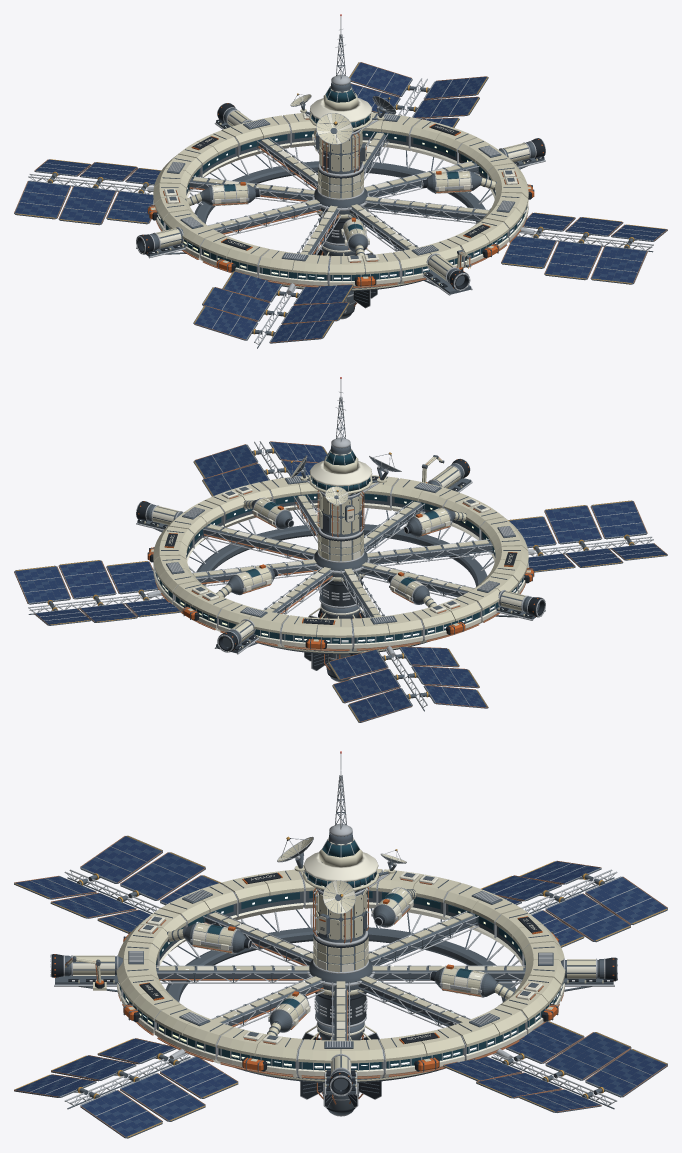
The model's file is odyssey-station.glb.
3 renders of one model, top to bottom at view 1: azimuth 30°, elevation 25°; view 2: azimuth 150°, elevation 25°; view 3: azimuth 270°, elevation 25°, orthographic. The views are drawn at different scales.
Parts seen in each view (by area): view 1: solar geometry, habitat geometry, spokes geometry, core geometry, dock geometry, labs geometry, comms geometry, reactor geometry; view 2: habitat geometry, solar geometry, spokes geometry, core geometry, labs geometry, dock geometry, reactor geometry, comms geometry; view 3: solar geometry, habitat geometry, spokes geometry, core geometry, labs geometry, dock geometry, reactor geometry, comms geometry.
Part boxes in pixels (x1,y1,x2,y2): solar geometry: (14,62,667,348); habitat geometry: (147,112,534,291); spokes geometry: (188,132,489,254); core geometry: (309,14,372,245); dock geometry: (136,103,545,295); labs geometry: (185,128,496,255); comms geometry: (290,93,396,144); reactor geometry: (314,242,377,319); habitat geometry: (147,475,534,654); solar geometry: (14,441,667,722); spokes geometry: (192,494,493,617); core geometry: (309,377,372,608); labs geometry: (216,497,466,607); dock geometry: (136,455,545,654); reactor geometry: (304,603,367,681); comms geometry: (290,452,401,506); solar geometry: (14,835,667,1138); habitat geometry: (116,868,565,1082); spokes geometry: (156,911,525,1040); core geometry: (303,751,378,1027); labs geometry: (167,887,514,1035); dock geometry: (50,954,617,1096); reactor geometry: (300,1022,381,1116); comms geometry: (277,836,406,913).
Size of the model in its own units: 153 by 93.38 by 153.
